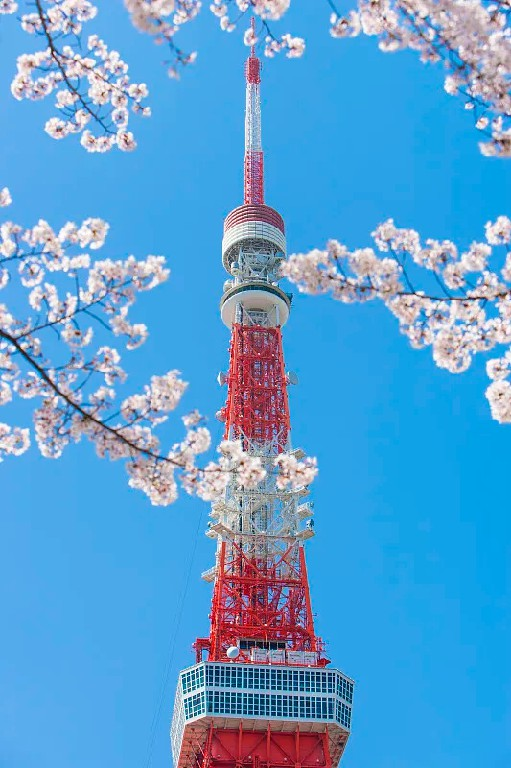Tokyo: (164, 12, 357, 766)
